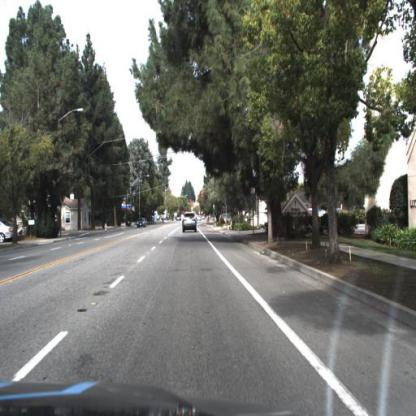car: (180, 210, 198, 236), (134, 214, 148, 230)
